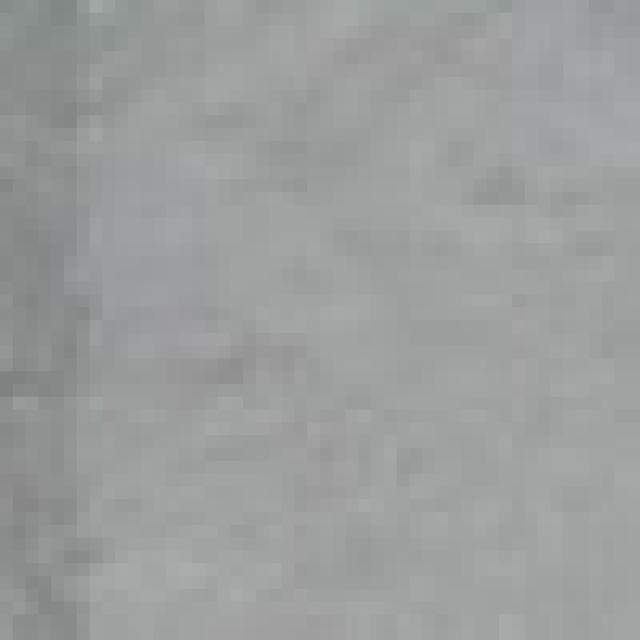no_fire: (13, 13, 640, 589)
